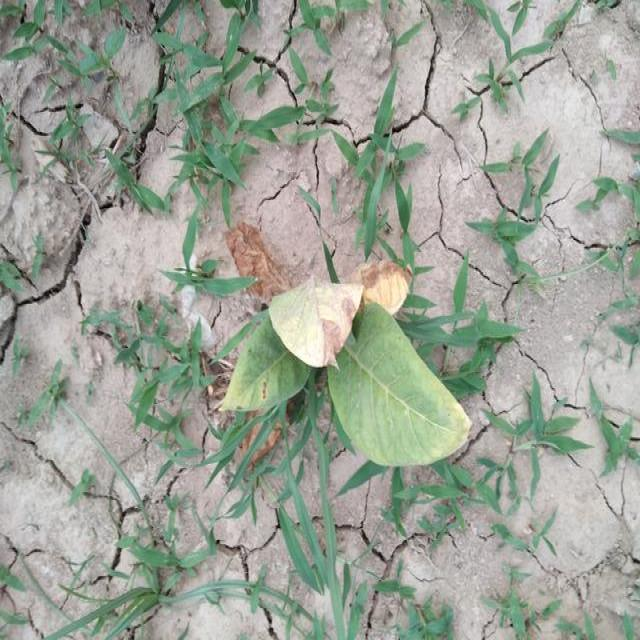crop: (227, 224, 473, 477)
